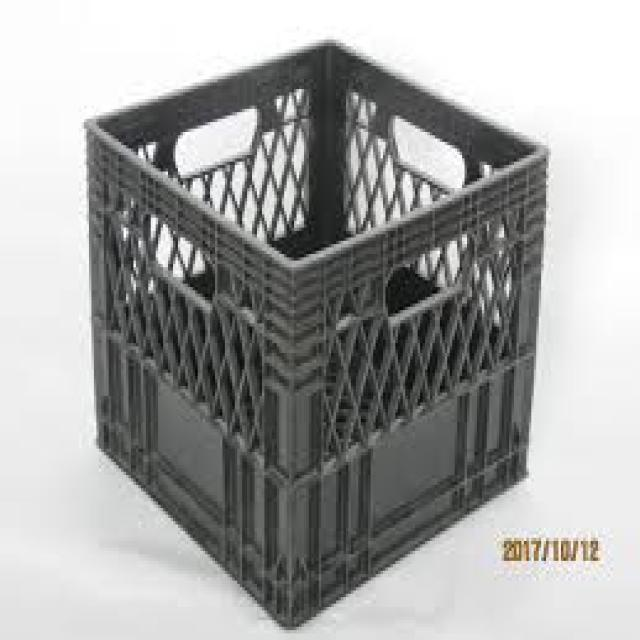basket: (77, 32, 570, 636)
